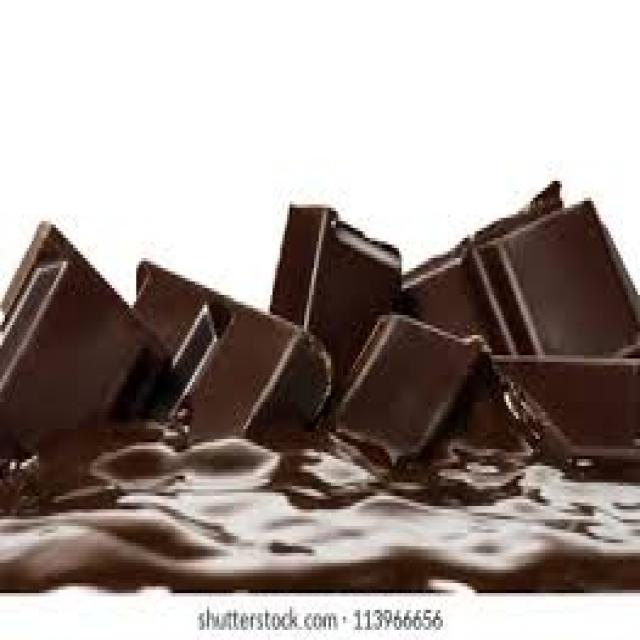Chocolate: (0, 176, 640, 594)
